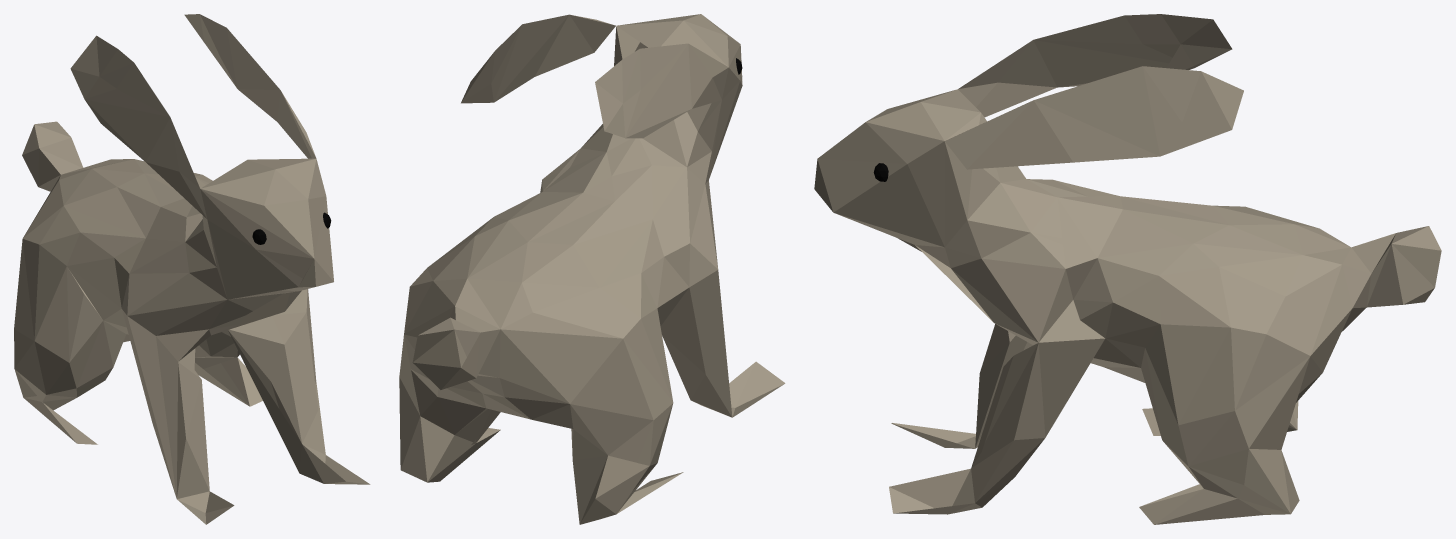
The model's file is Rabbit.fbx.
The picture shows the model from 3 angles, left to right: view 1: azimuth 30°, elevation 25°; view 2: azimuth 150°, elevation 25°; view 3: azimuth 270°, elevation 25°; orthographic projection. The views are drawn at different scales.
Visible parts, largest first — view 1: Rabbit; view 2: Rabbit; view 3: Rabbit.
Part boxes in pixels (<box>): Rabbit: <box>14,14,370,524</box>; Rabbit: <box>399,14,785,524</box>; Rabbit: <box>814,14,1441,524</box>.
Size of the model in its own units: 244 by 393 by 504.
